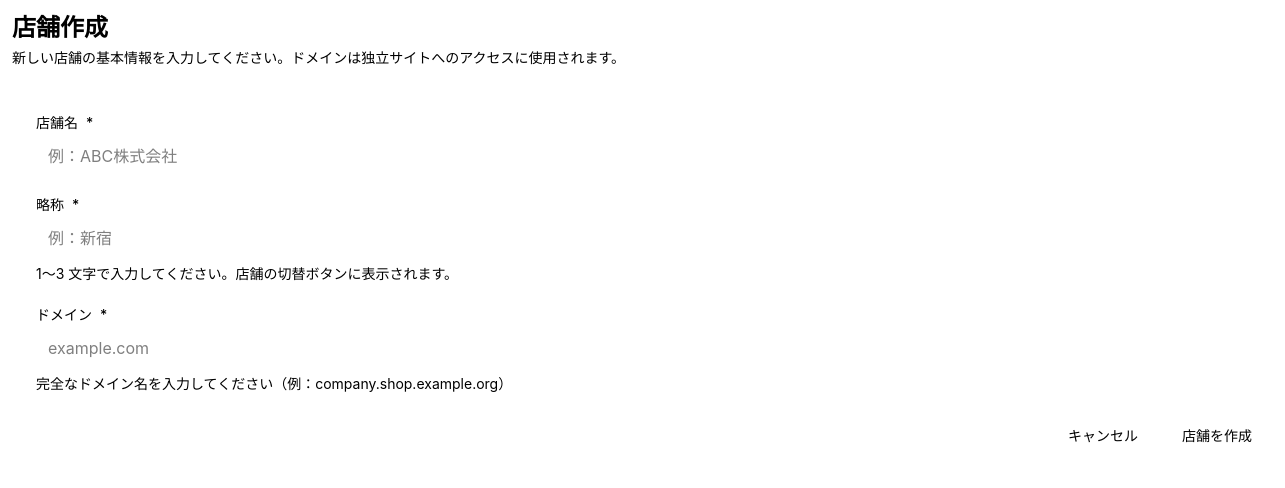
店舗管理 3 画面の挙動 › 新規作成は略称  が不正なら送信せずエラーを表示すること
Type "ガンマ店" into the field labelled "店舗名 *" at (652,156), box [36,138,1268,174]
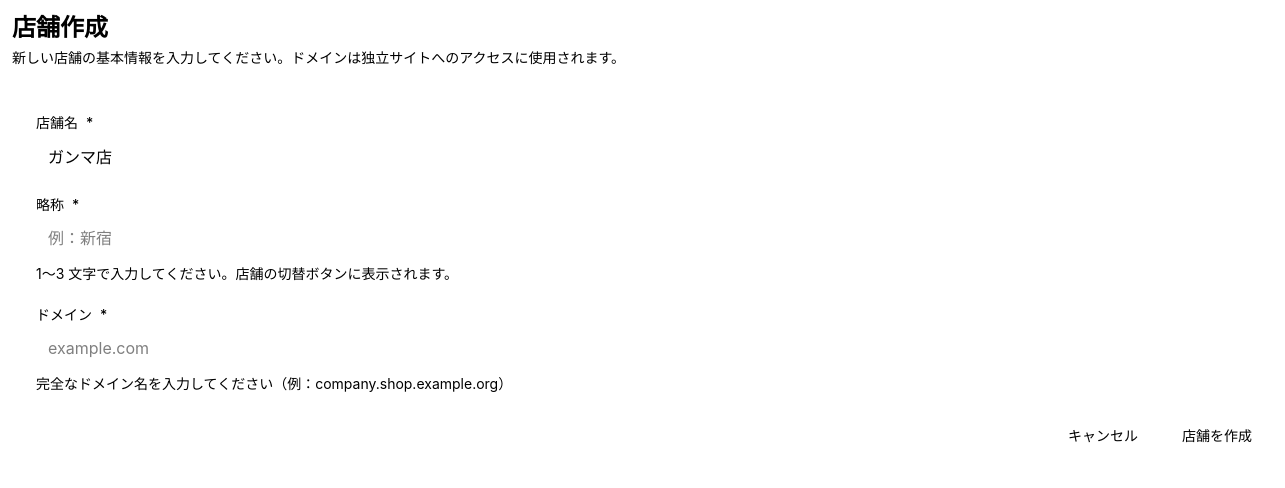
Type "gamma.example.com" into the field labelled "ドメイン *" at (652,348), box [36,330,1268,366]
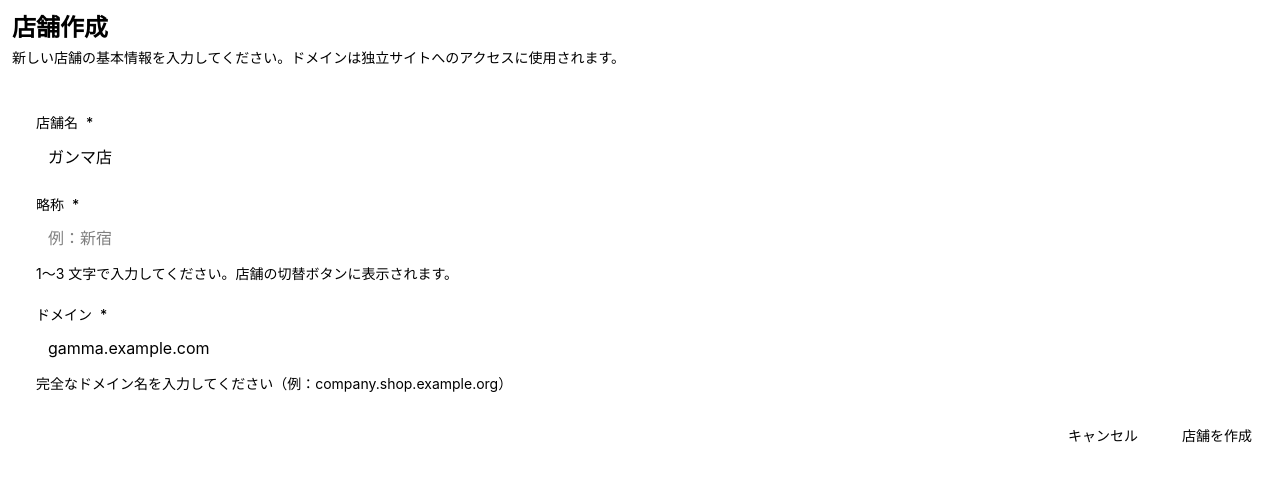
Click the button "店舗を作成" at (1217,436), box [1166,418,1268,454]
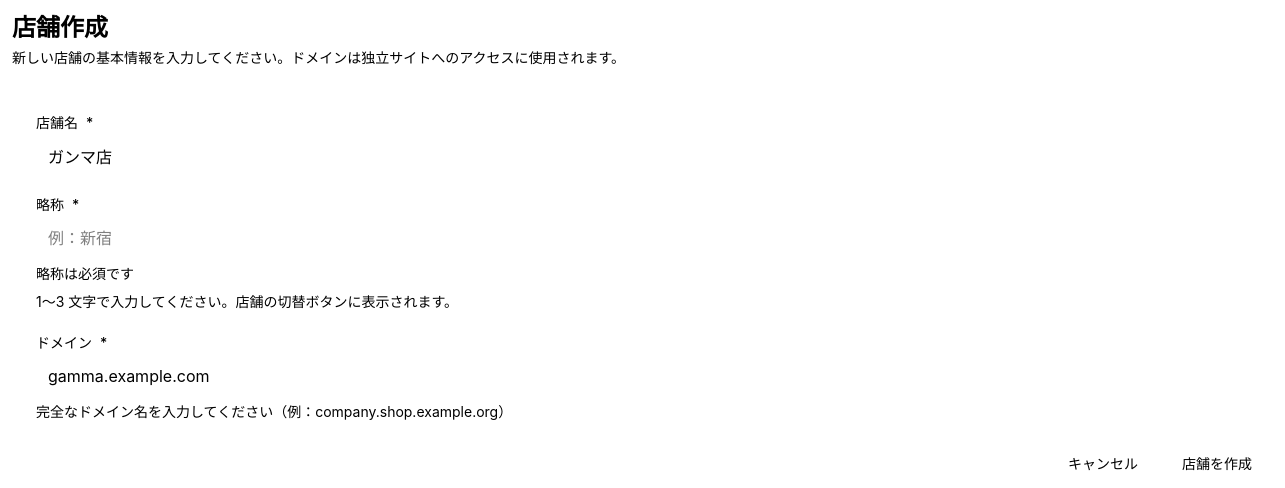
Check: the text "略称は必須です" is shown, box [36,265,134,282]
